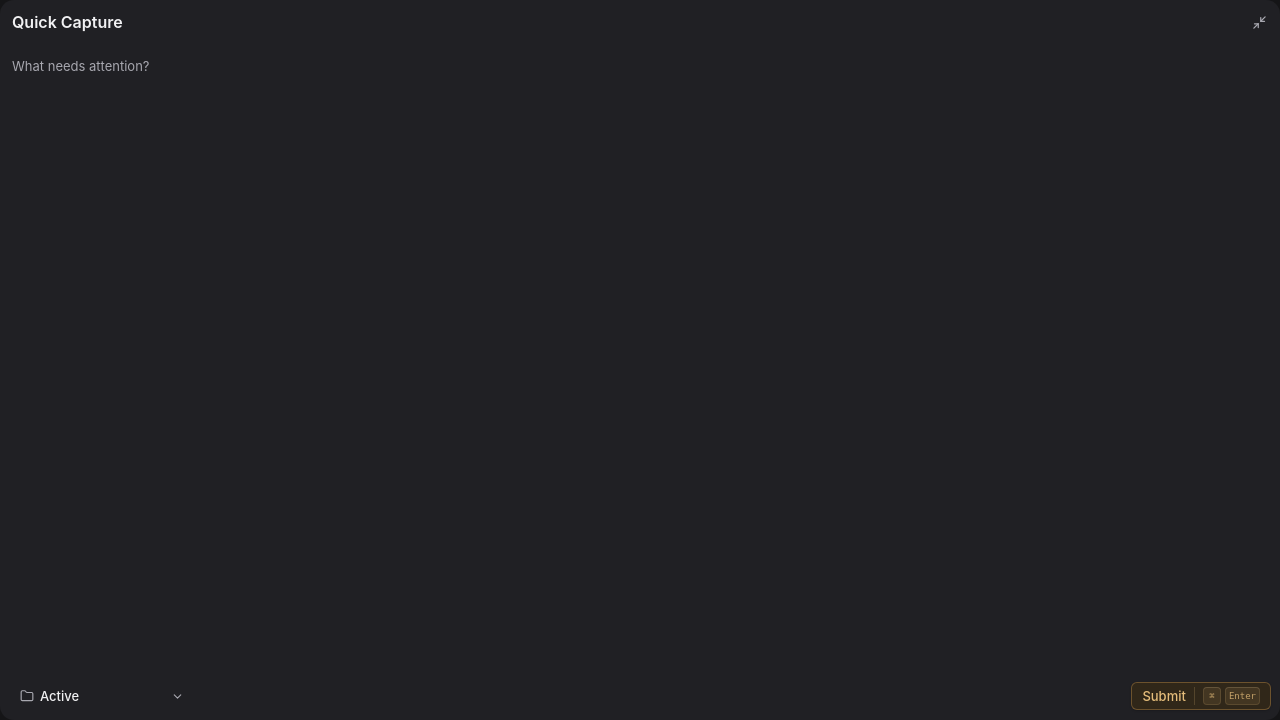
Scenario: QuickCaptureApp › clears_a_previous_save_error_when_the_draft_changes
In the text box named "Quest content": (640, 358) [12,56,1268,660], type "First attempt"
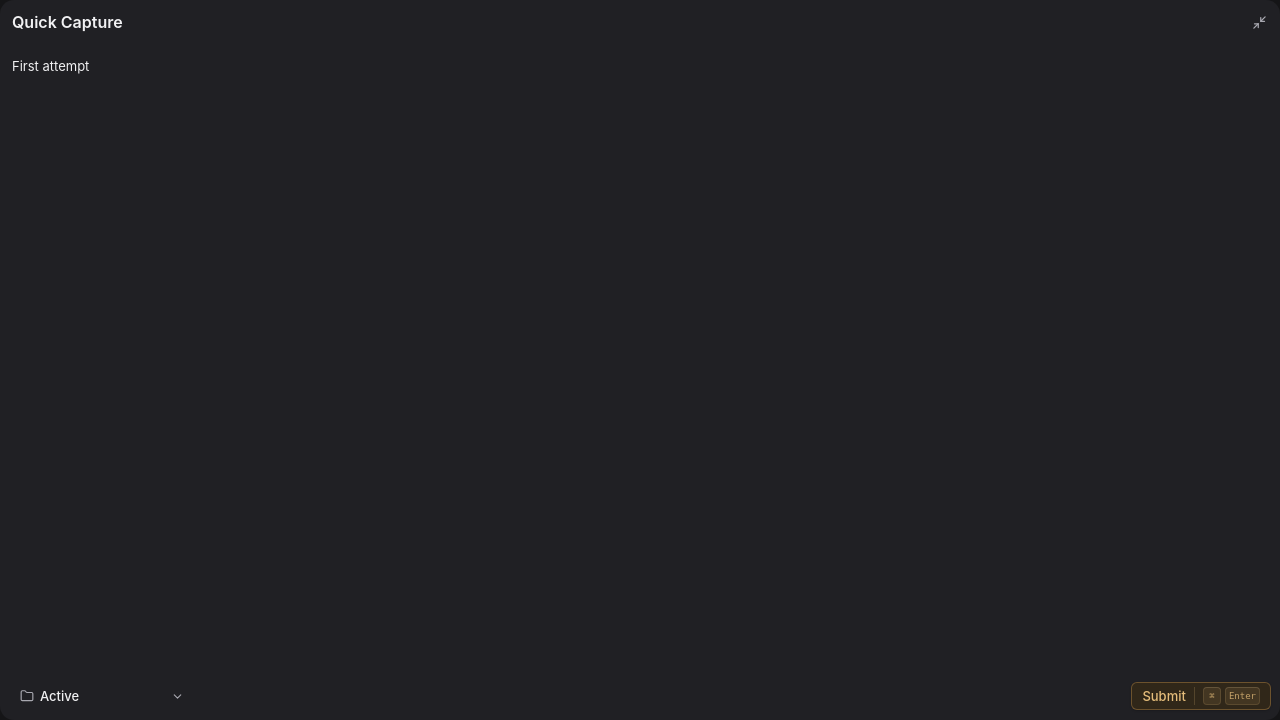
Click the button "Submit ⌘ Enter": (1201, 696) [1131,682,1271,710]
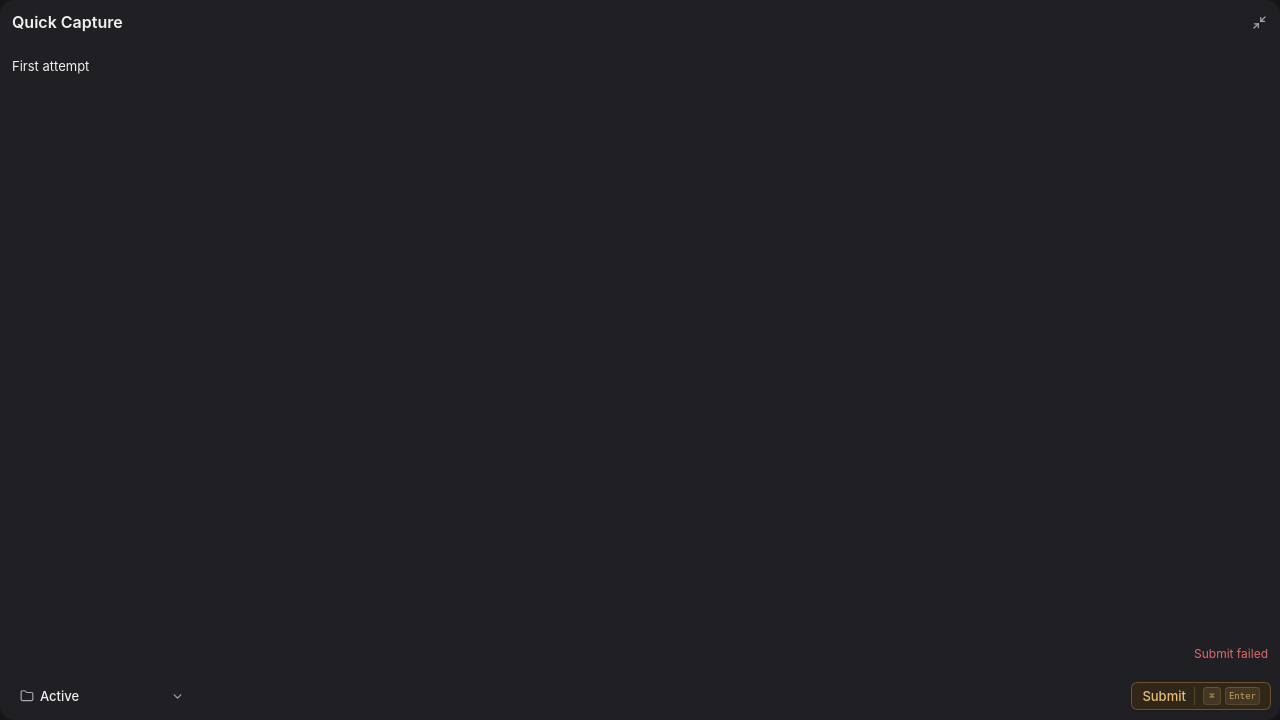
Result: the text "Submit failed" is shown at [1194,645,1268,662]
Replace the text in the text box named "Quest content" with "Updated attempt": (640, 358) [12,56,1268,660]
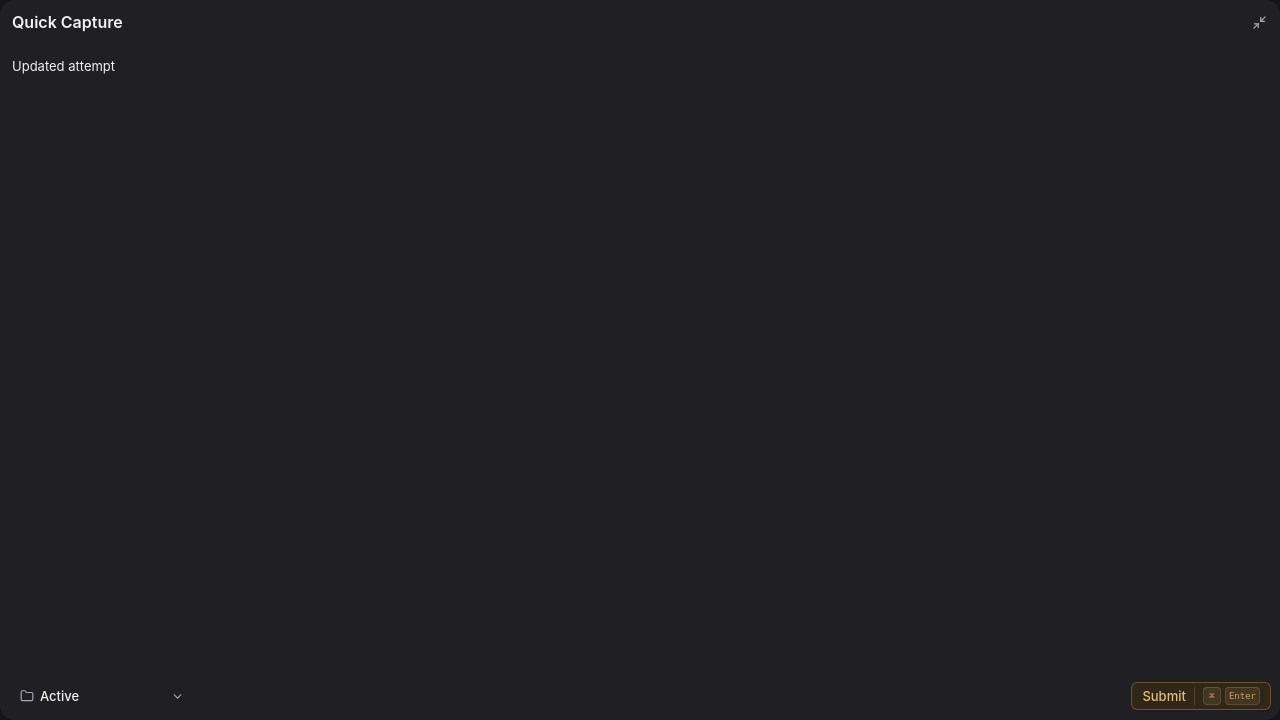
Result: the text "Submit failed" is gone
